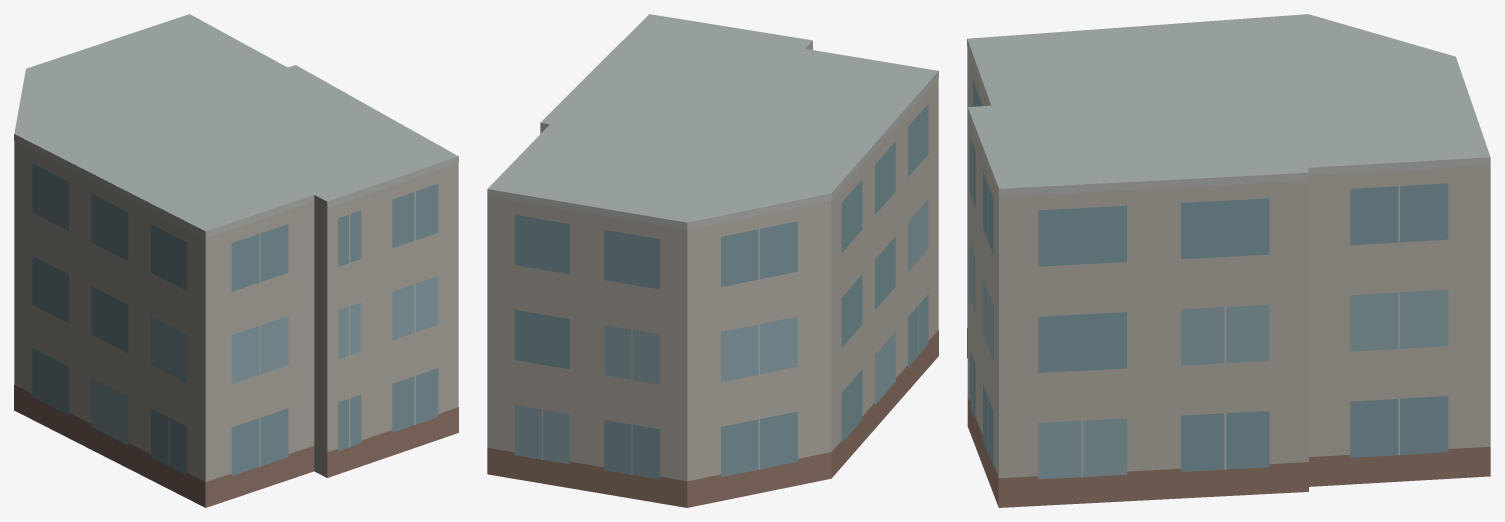
Rendered from survey-upis-32746699.glb.
The picture shows the model from 3 angles, left to right: view 1: azimuth 30°, elevation 25°; view 2: azimuth 150°, elevation 25°; view 3: azimuth 270°, elevation 25°; orthographic projection. The views are drawn at different scales.
Visible parts, largest first — view 1: survey-upis-32746699.tmp; view 2: survey-upis-32746699.tmp; view 3: survey-upis-32746699.tmp.
Boxes of the visible parts, x1=… form: survey-upis-32746699.tmp: x1=14, y1=14, x2=458, y2=507; survey-upis-32746699.tmp: x1=487, y1=14, x2=938, y2=507; survey-upis-32746699.tmp: x1=967, y1=14, x2=1490, y2=507.
Size of the model in its own units: 11.76 by 10 by 14.88.
